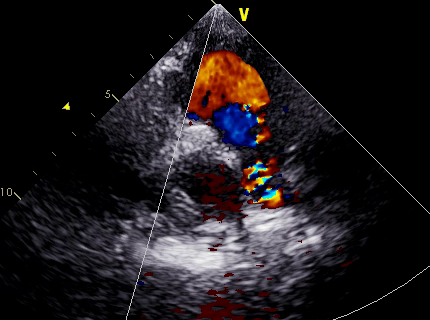PR: (237, 123, 295, 219)
